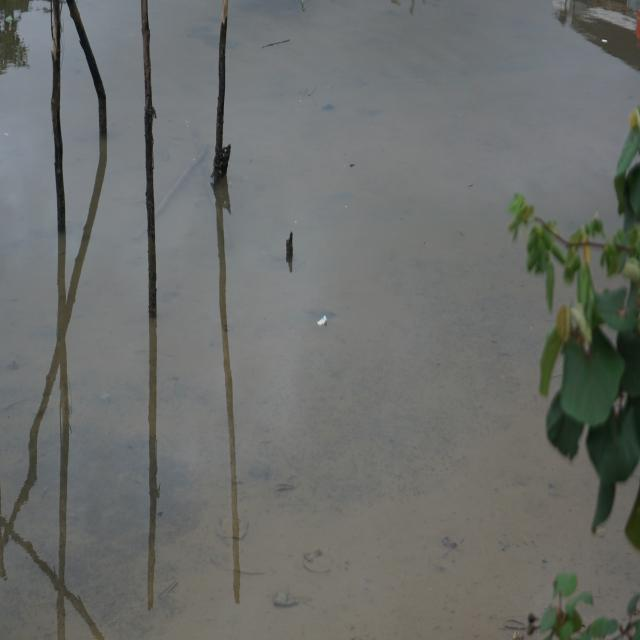Bungkus Minuman: (317, 316, 329, 329)
